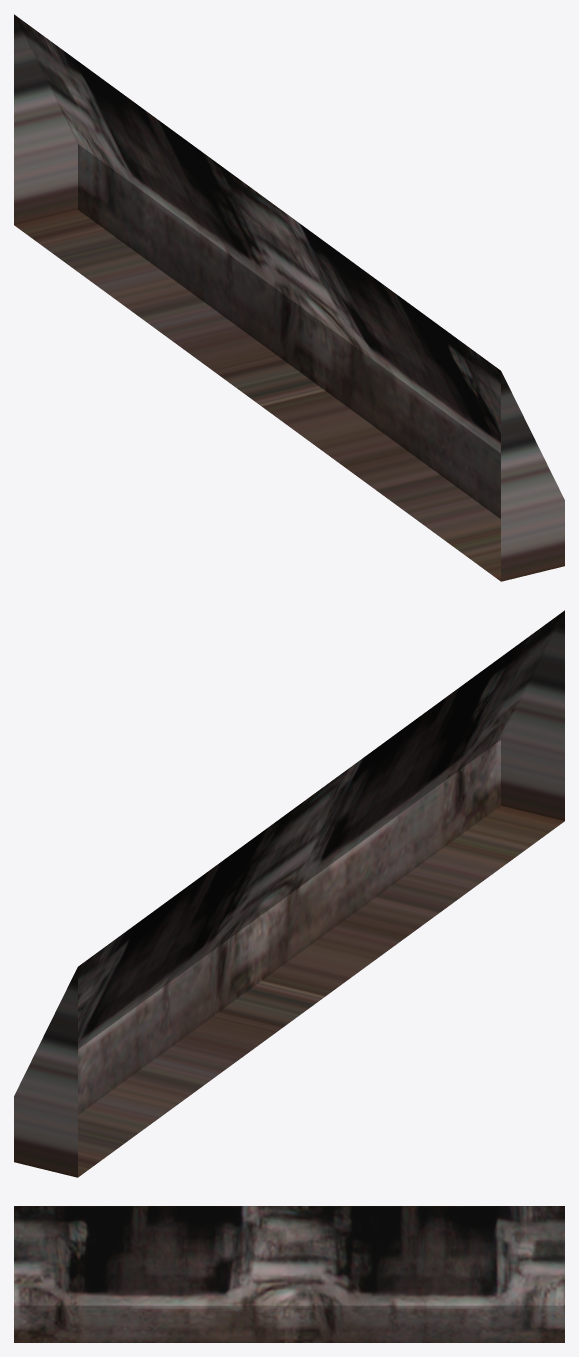
Rendered from express-transport-belt-end.glb.
3 renders of one model, top to bottom at view 1: azimuth 30°, elevation 25°; view 2: azimuth 150°, elevation 25°; view 3: azimuth 270°, elevation 25°, orthographic. The views are drawn at different scales.
Parts seen in each view (by area): view 1: body; view 2: body; view 3: body.
Part boxes in pixels (box(x1,y1,x2,y2)): body: box(14, 14, 564, 581); body: box(14, 610, 564, 1177); body: box(14, 1206, 564, 1342).
Bounding box in the file's own units: 0.07 × 0.221 × 0.925.
Materials: 1 (1 with a texture image).
